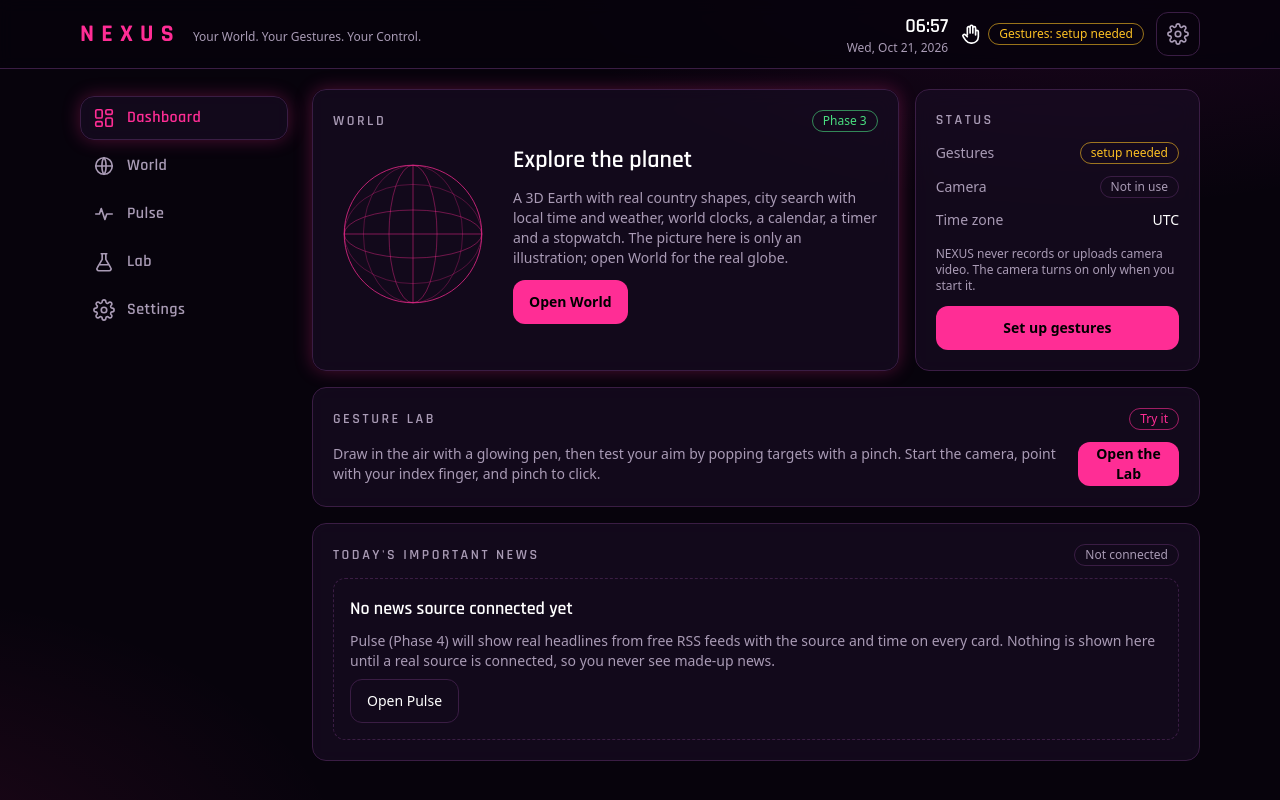
NEXUS shell › navigates between modules with the navigation buttons
Click the button "World". click: (184, 166)
box: [80,144,288,188]
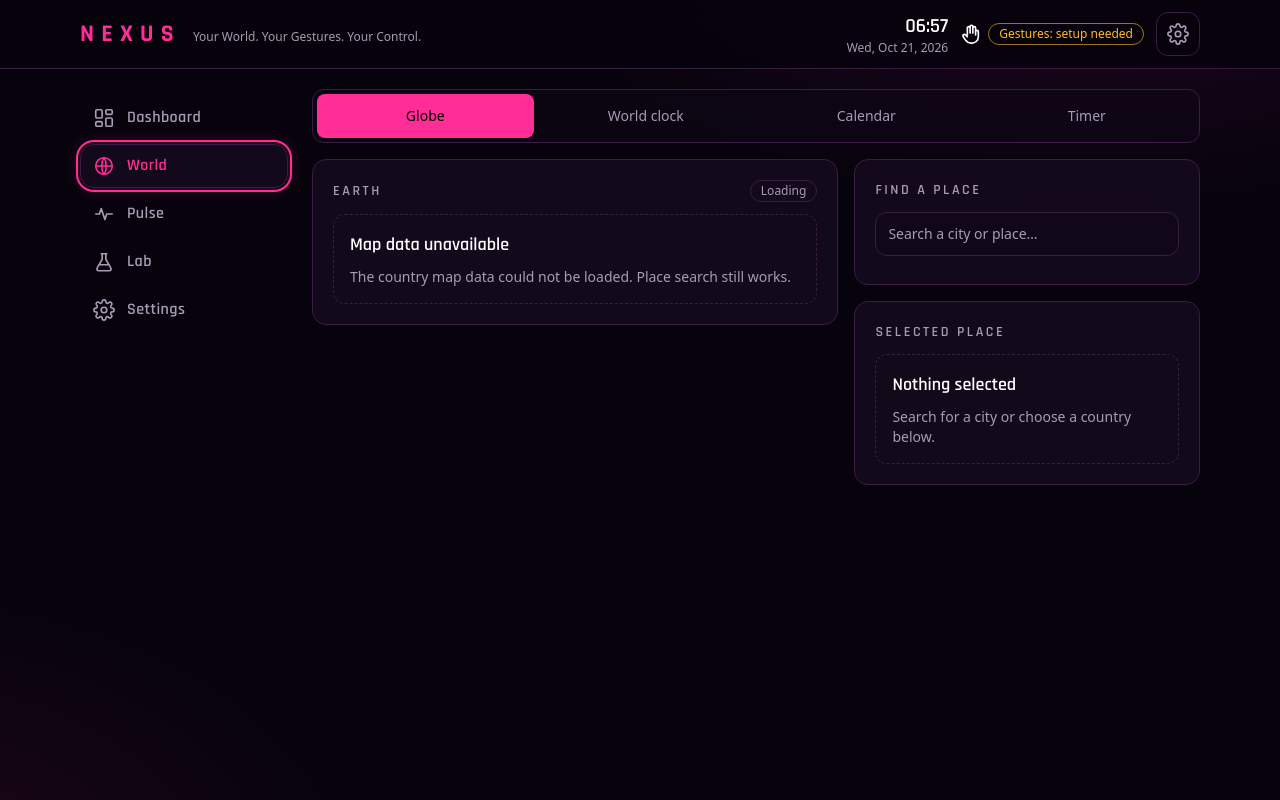
Expected: the tab "Globe" is shown, [317,94,534,138]
Click the button "Pulse". click: (184, 214)
box: [80,192,288,236]
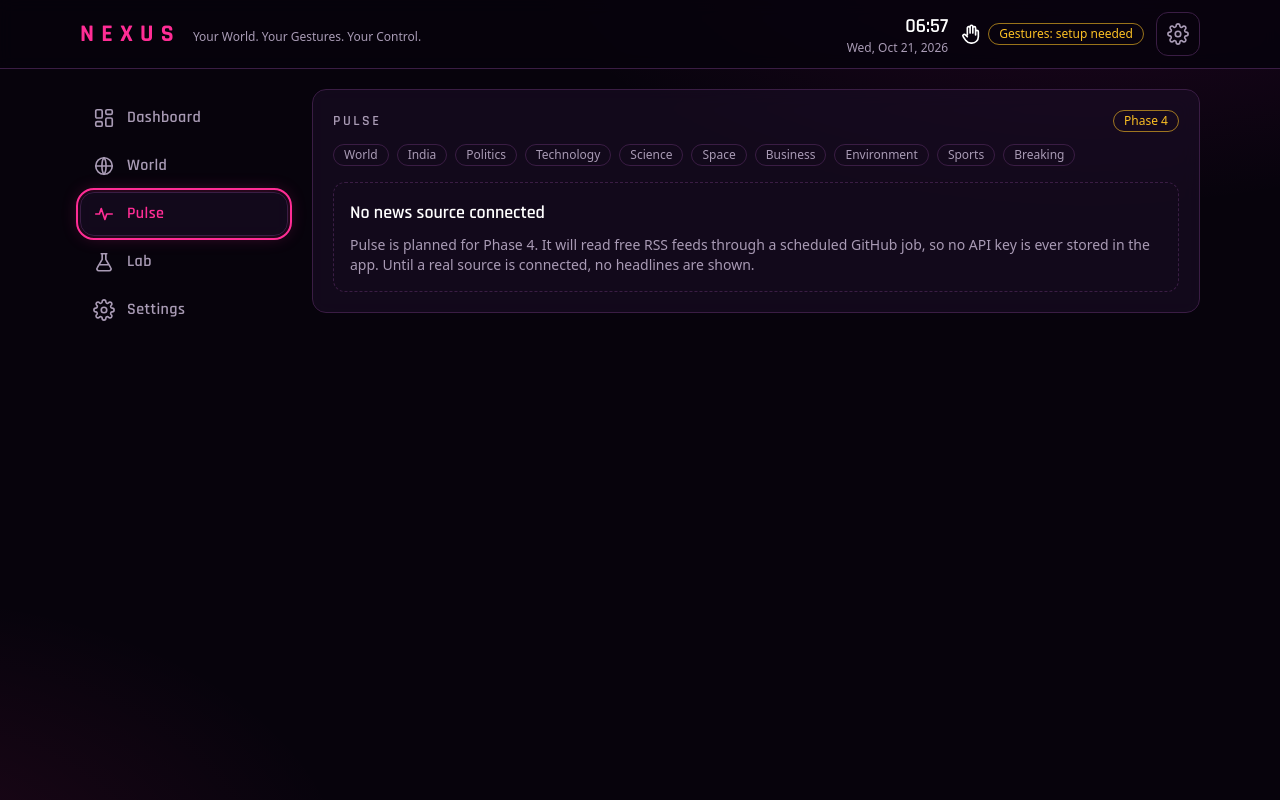
Now the text "No news source connected" is shown, box [350,199,545,227]
